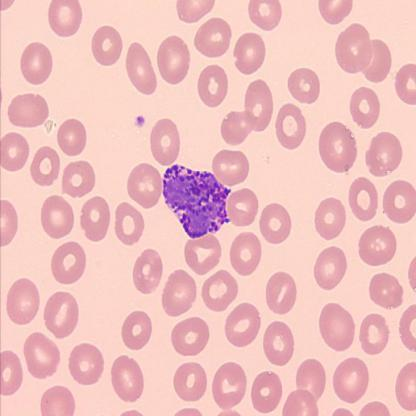Basophil: (160, 160, 233, 242)
